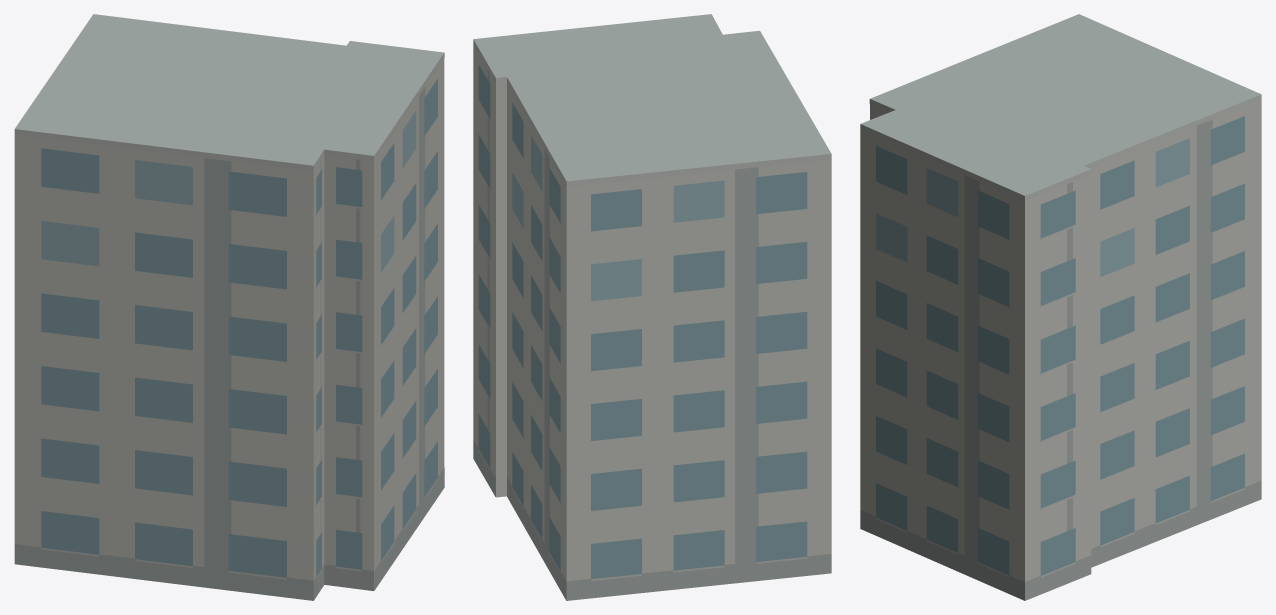
The model's file is survey-upis-32887604.glb.
3 renders of one model, left to right at view 1: azimuth 30°, elevation 25°; view 2: azimuth 150°, elevation 25°; view 3: azimuth 270°, elevation 25°, orthographic. The views are drawn at different scales.
Parts seen in each view (by area): view 1: survey-upis-32887604.tmp; view 2: survey-upis-32887604.tmp; view 3: survey-upis-32887604.tmp.
Boxes of the visible parts, x1,y1,x2,y2 form: survey-upis-32887604.tmp: [14, 14, 444, 600]; survey-upis-32887604.tmp: [473, 14, 831, 600]; survey-upis-32887604.tmp: [860, 14, 1261, 600].
Size of the model in its own units: 17.64 by 18.3 by 16.44.
